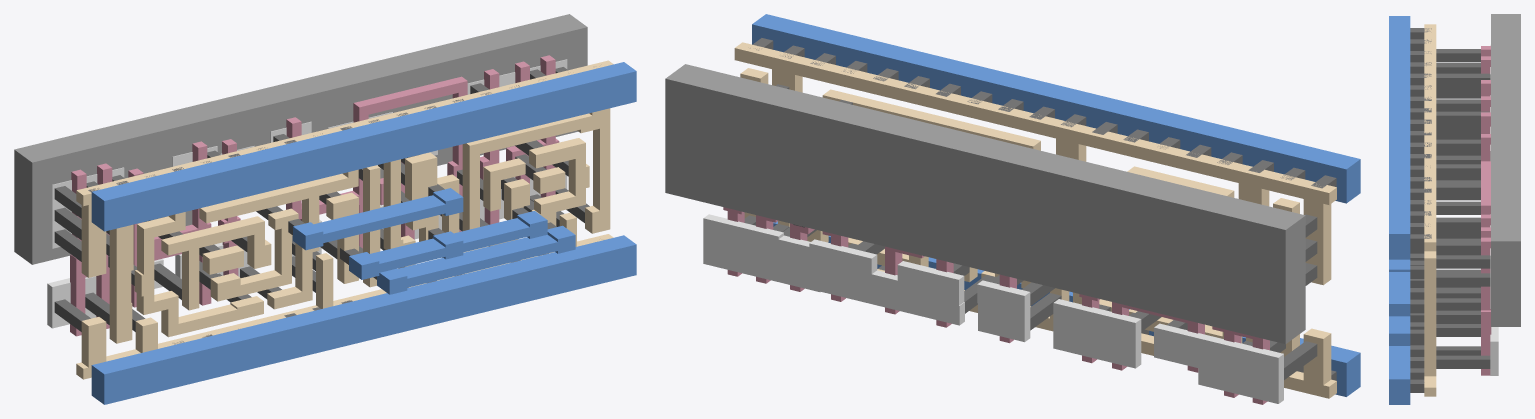
Rendered from sky130_fd_sc_hd__xnor3_2.gds.gltf.
The picture shows the model from 3 angles, left to right: view 1: azimuth 30°, elevation 25°; view 2: azimuth 150°, elevation 25°; view 3: azimuth 270°, elevation 25°; orthographic projection. The views are drawn at different scales.
Visible parts, largest first — view 1: sky130_fd_sc_hd__xnor3_2_met1, sky130_fd_sc_hd__xnor3_2_li1, sky130_fd_sc_hd__xnor3_2_nwell, sky130_fd_sc_hd__xnor3_2_poly, sky130_fd_sc_hd__xnor3_2_licon, sky130_fd_sc_hd__xnor3_2_diff, sky130_fd_sc_hd__xnor3_2_mcon; view 2: sky130_fd_sc_hd__xnor3_2_nwell, sky130_fd_sc_hd__xnor3_2_diff, sky130_fd_sc_hd__xnor3_2_li1, sky130_fd_sc_hd__xnor3_2_met1, sky130_fd_sc_hd__xnor3_2_licon, sky130_fd_sc_hd__xnor3_2_mcon, sky130_fd_sc_hd__xnor3_2_poly; view 3: sky130_fd_sc_hd__xnor3_2_licon, sky130_fd_sc_hd__xnor3_2_nwell, sky130_fd_sc_hd__xnor3_2_met1, sky130_fd_sc_hd__xnor3_2_mcon, sky130_fd_sc_hd__xnor3_2_li1, sky130_fd_sc_hd__xnor3_2_poly, sky130_fd_sc_hd__xnor3_2_diff.
Boxes of the visible parts, x1,y1,x2,y2 form: sky130_fd_sc_hd__xnor3_2_met1: [91, 62, 636, 404]; sky130_fd_sc_hd__xnor3_2_li1: [76, 60, 613, 379]; sky130_fd_sc_hd__xnor3_2_nwell: [14, 14, 587, 264]; sky130_fd_sc_hd__xnor3_2_poly: [70, 55, 559, 336]; sky130_fd_sc_hd__xnor3_2_licon: [54, 67, 589, 331]; sky130_fd_sc_hd__xnor3_2_diff: [47, 59, 567, 328]; sky130_fd_sc_hd__xnor3_2_mcon: [88, 78, 556, 344]; sky130_fd_sc_hd__xnor3_2_nwell: [665, 64, 1305, 344]; sky130_fd_sc_hd__xnor3_2_diff: [703, 214, 1283, 403]; sky130_fd_sc_hd__xnor3_2_li1: [734, 42, 1336, 398]; sky130_fd_sc_hd__xnor3_2_met1: [752, 14, 1360, 396]; sky130_fd_sc_hd__xnor3_2_licon: [744, 84, 1317, 379]; sky130_fd_sc_hd__xnor3_2_mcon: [750, 38, 1336, 380]; sky130_fd_sc_hd__xnor3_2_poly: [723, 207, 1269, 404]; sky130_fd_sc_hd__xnor3_2_licon: [1436, 49, 1490, 368]; sky130_fd_sc_hd__xnor3_2_nwell: [1491, 14, 1520, 326]; sky130_fd_sc_hd__xnor3_2_met1: [1389, 16, 1410, 404]; sky130_fd_sc_hd__xnor3_2_mcon: [1410, 28, 1431, 392]; sky130_fd_sc_hd__xnor3_2_li1: [1424, 24, 1436, 396]; sky130_fd_sc_hd__xnor3_2_poly: [1481, 46, 1491, 375]; sky130_fd_sc_hd__xnor3_2_diff: [1490, 44, 1498, 375].
Size of the model in its own units: 9.12 by 3.2 by 2.24.
